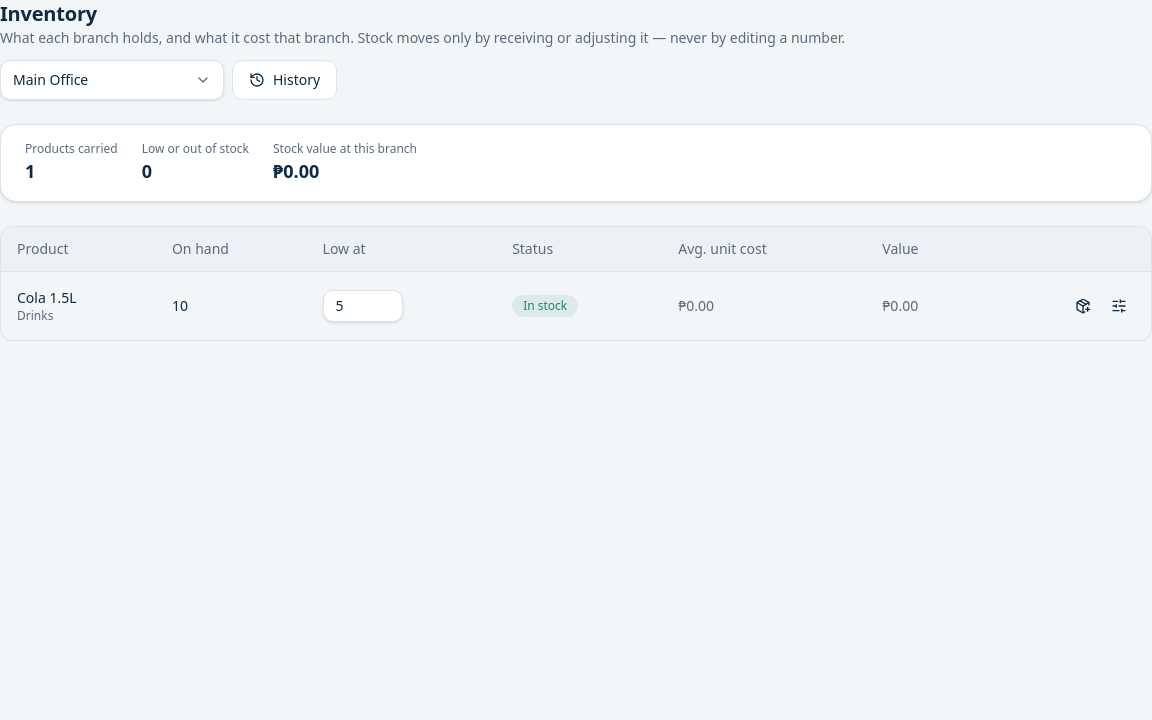
receiving a delivery › refuses a zero quantity before the round trip
Click the button named "Receive Cola 1.5L" at (1083, 306), box x1=1067 y1=290 x2=1099 y2=322
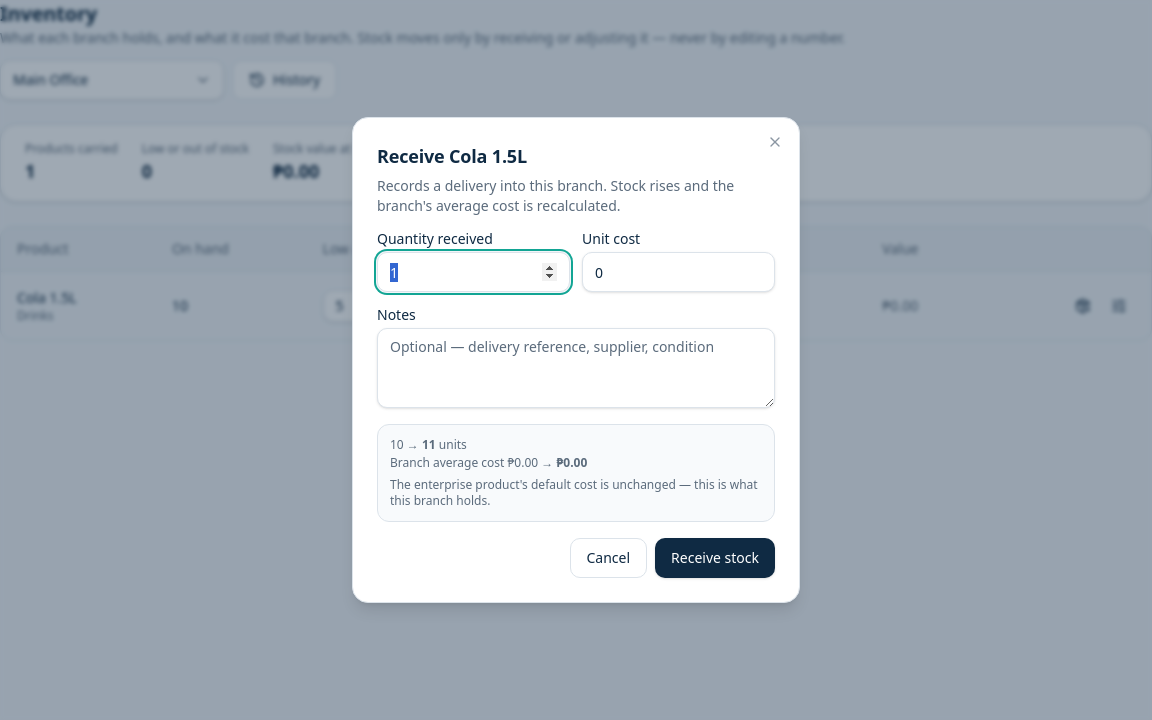
Replace the text in the number field labelled "Quantity received" with "0" at (474, 272), box x1=377 y1=252 x2=570 y2=292
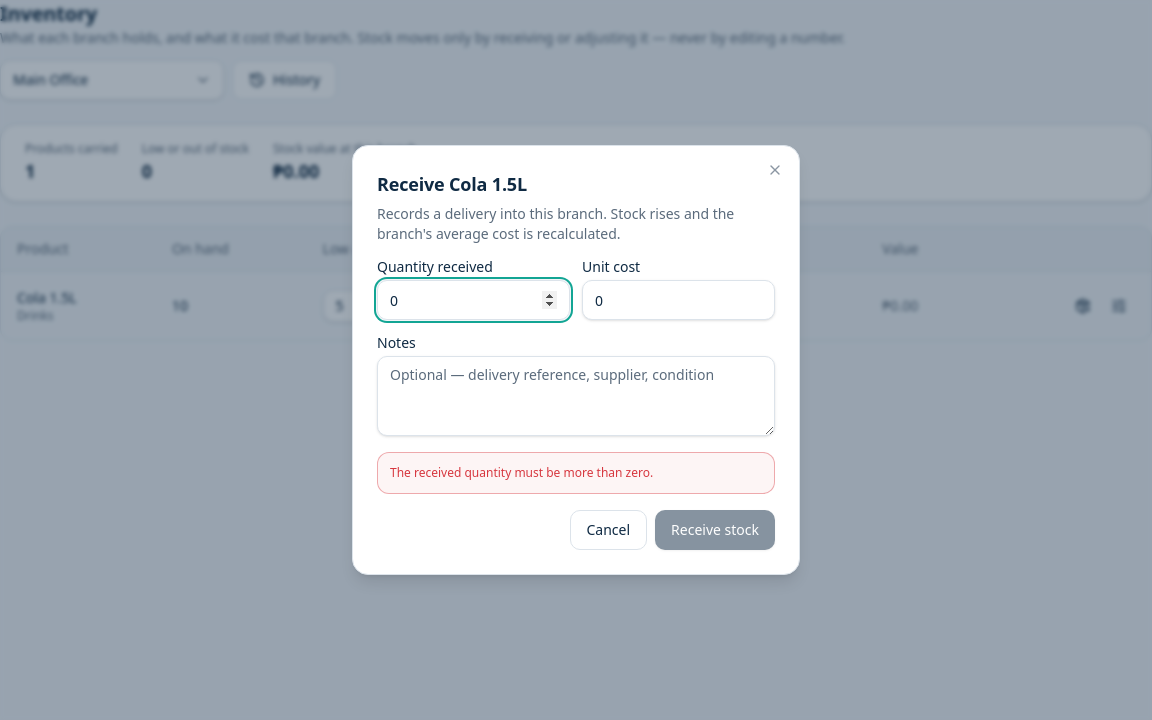
Expected: the list item "The received quantity must be more than zero." is shown, x1=390 y1=464 x2=653 y2=481
Expected: the button "Receive stock" is disabled, x1=655 y1=510 x2=775 y2=550
